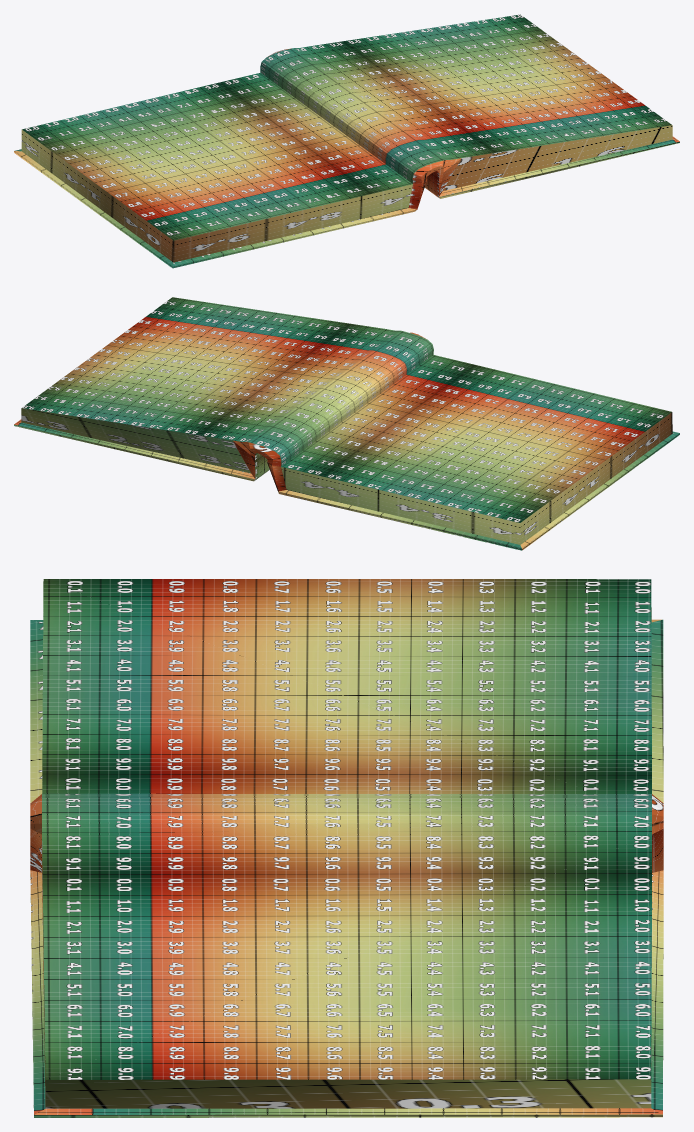
File: book.fbx
The picture shows the model from 3 angles, top to bottom: view 1: azimuth 30°, elevation 25°; view 2: azimuth 150°, elevation 25°; view 3: azimuth 270°, elevation 25°; orthographic projection. The views are drawn at different scales.
Visible parts, largest first — view 1: book; view 2: book; view 3: book.
Boxes of the visible parts, left/top/right/bottom form: book: left=14, top=14, right=679, bottom=268; book: left=14, top=297, right=679, bottom=550; book: left=30, top=579, right=663, bottom=1117.
Size of the model in its own units: 29.19 by 2.28 by 15.74.
1 material, 1 textured.
